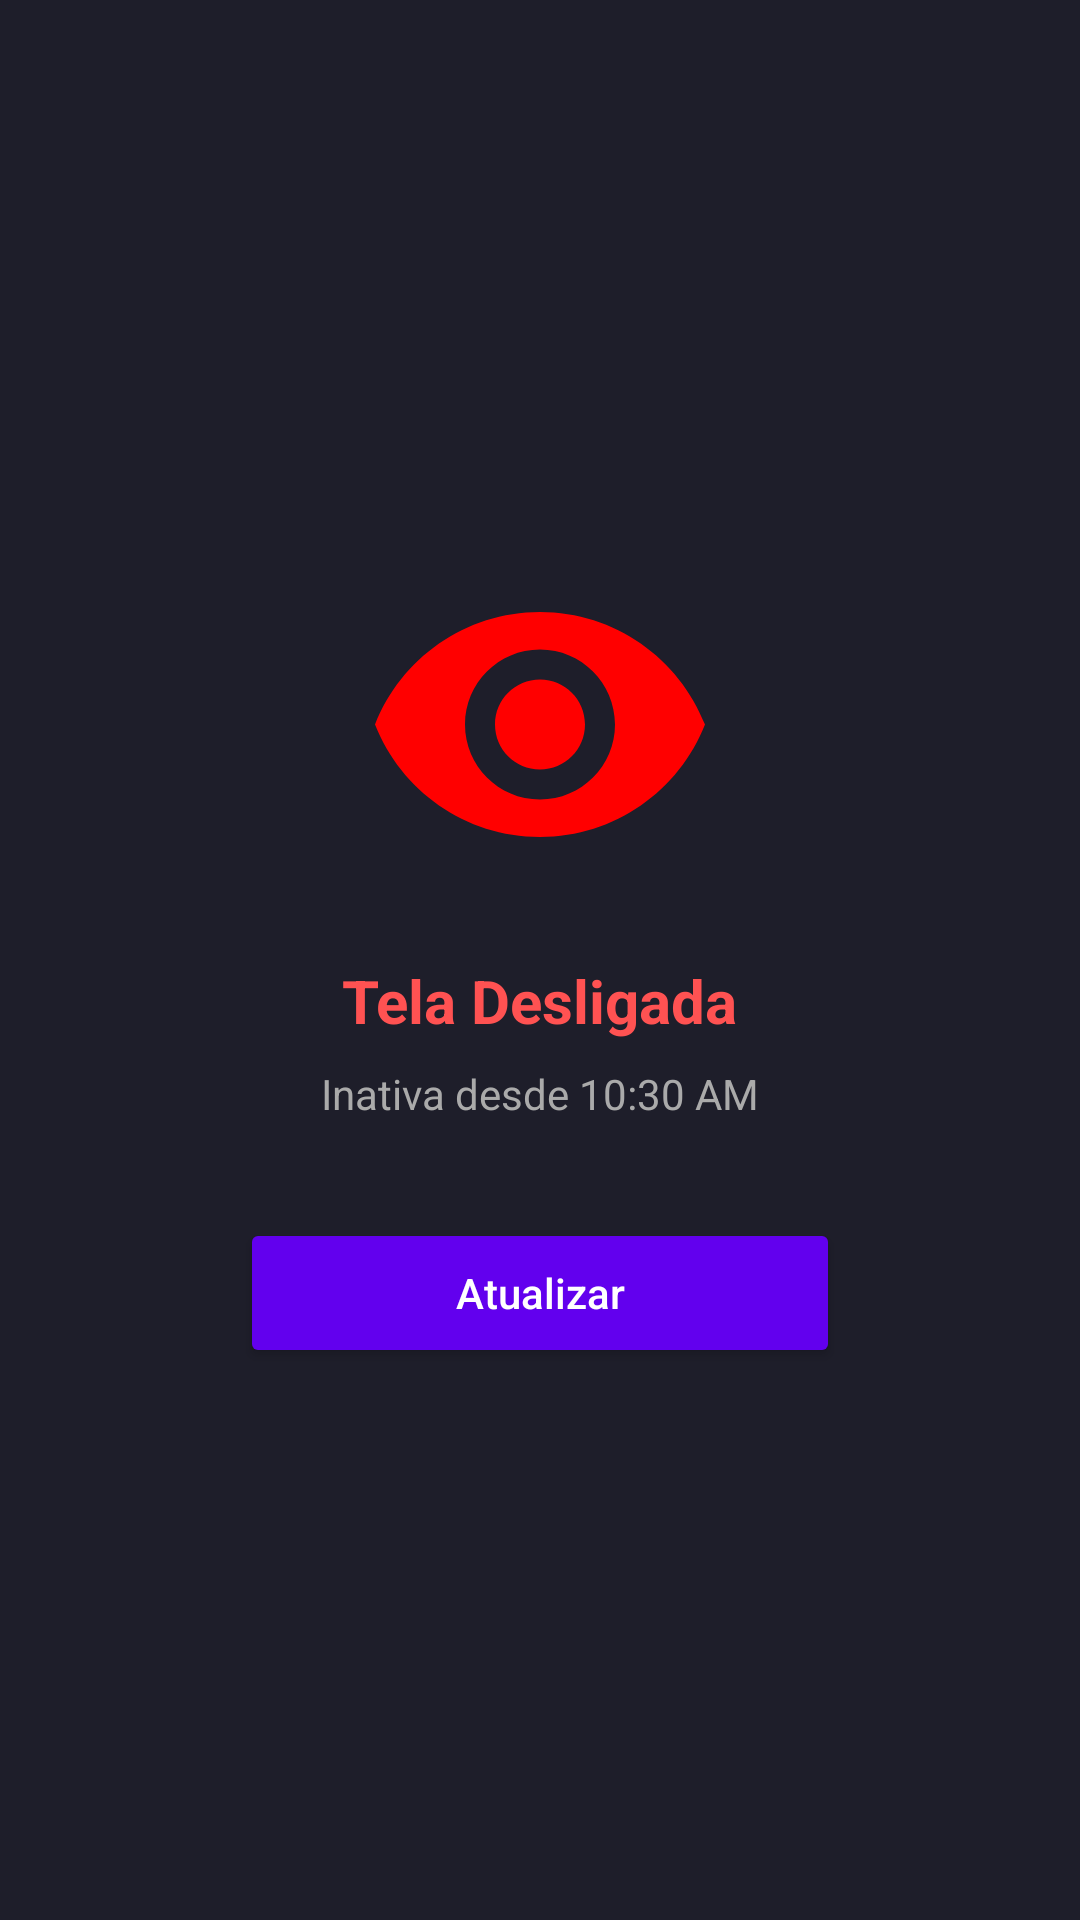

Where icons sit on this 1080 × 1920 app screen, as (x1, y1, x2, y2):
Ícone de status da tela: (375, 612, 705, 837)
